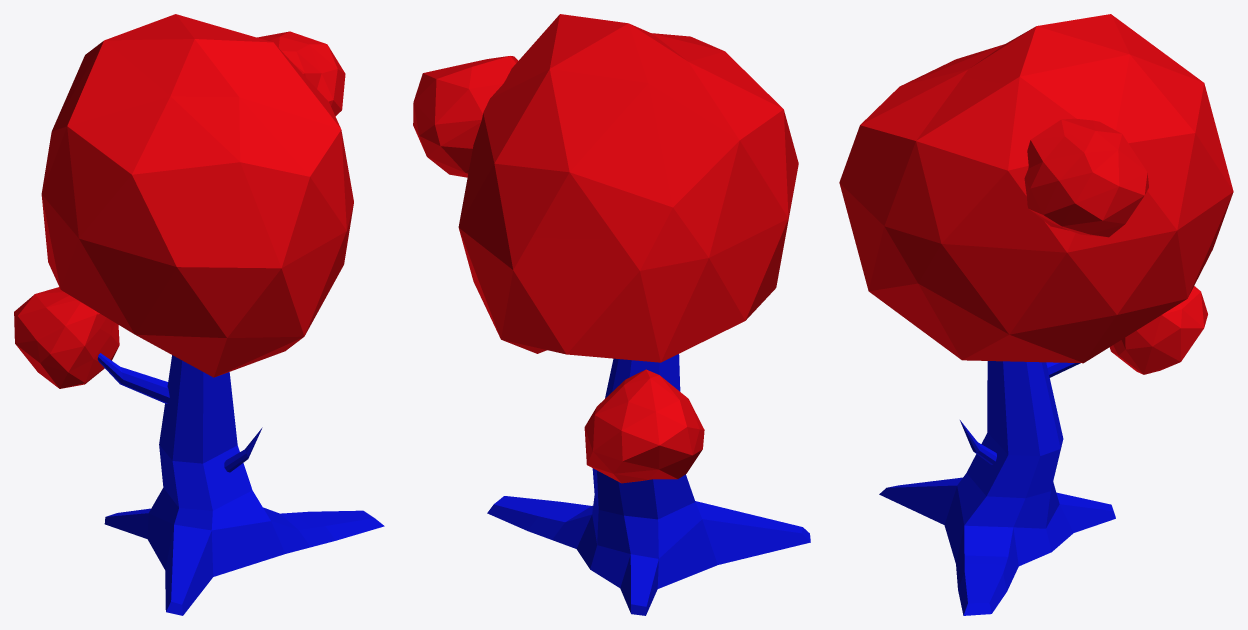
Rendered from SM_Broadleaf3.fbx.
The picture shows the model from 3 angles, left to right: view 1: azimuth 30°, elevation 25°; view 2: azimuth 150°, elevation 25°; view 3: azimuth 270°, elevation 25°; orthographic projection. The views are drawn at different scales.
Parts seen in each view (by area): view 1: SM_Broadleaf3; view 2: SM_Broadleaf3; view 3: SM_Broadleaf3.
Boxes of the visible parts, x1,y1,x2,y2 form: SM_Broadleaf3: (14,14,384,615); SM_Broadleaf3: (413,14,810,615); SM_Broadleaf3: (839,14,1233,615).
Size of the model in its own units: 176 by 280 by 195.
